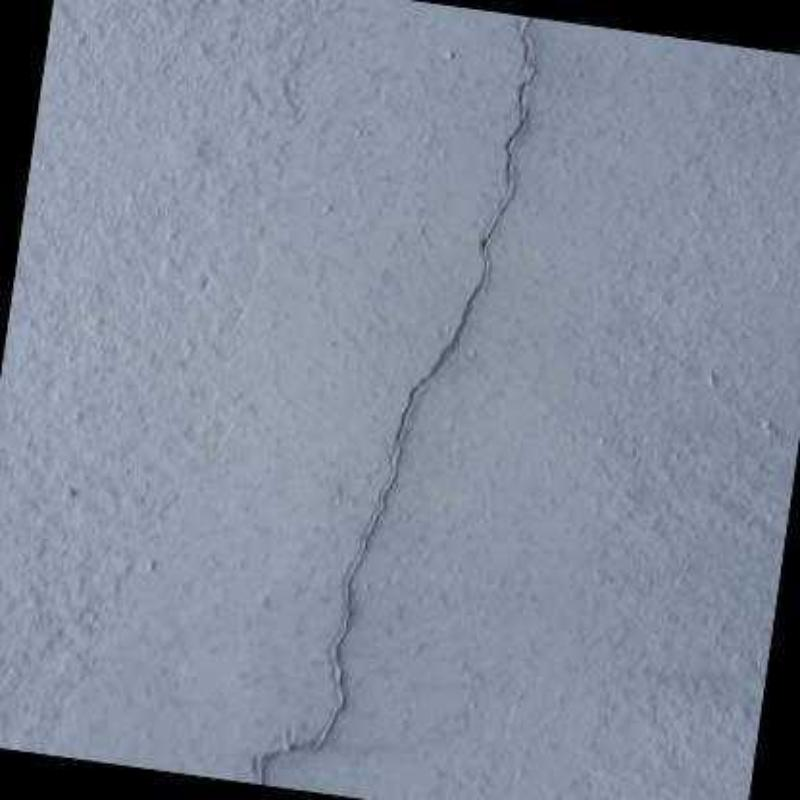pothole: (254, 197, 511, 785), (503, 15, 534, 192)
